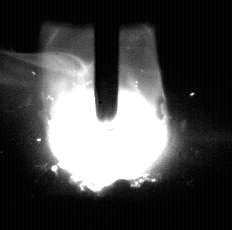arame: (95, 0, 119, 131)
poca: (46, 0, 169, 230)
